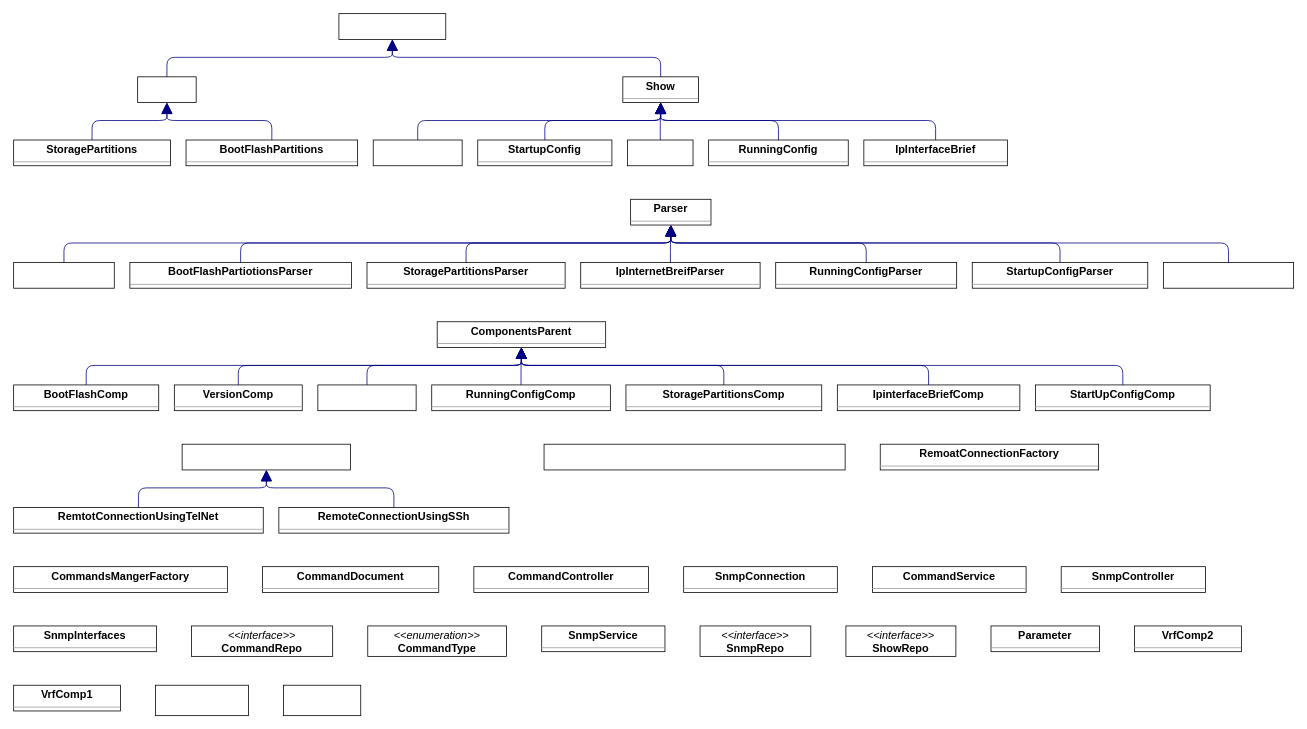
This 1307x729 diagram has some shape labels left out. The shapes that lost their labels are listed below. From the top down, each one's centre as x and y in pixels, then its label:
the point at 392,26: Command
the point at 166,89: Dir
the point at 417,152: Version
the point at 660,152: VRF
the point at 63,275: VrfParser
the point at 1228,275: VersionParser
the point at 366,397: VrfComp
the point at 266,456: RemoteConnection
the point at 694,456: RemoateCommandsExcuterApplication
the point at 201,700: <<interface>> DirRepo
the point at 322,700: <<enumeration>> Types
